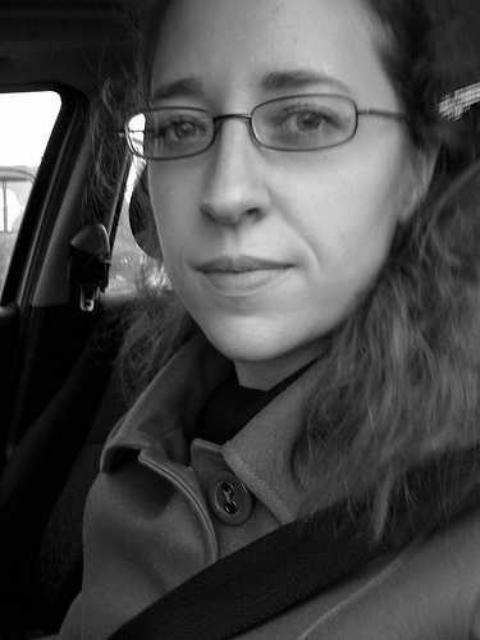SafeDriving: (259, 91, 352, 152), (144, 100, 216, 156)
Seatbelt: (106, 428, 480, 640)
